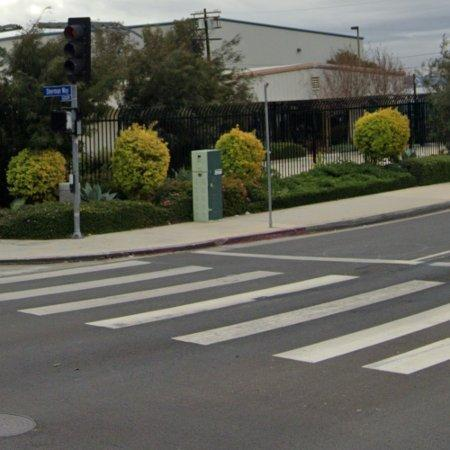crosswalks: (0, 254, 450, 377)
